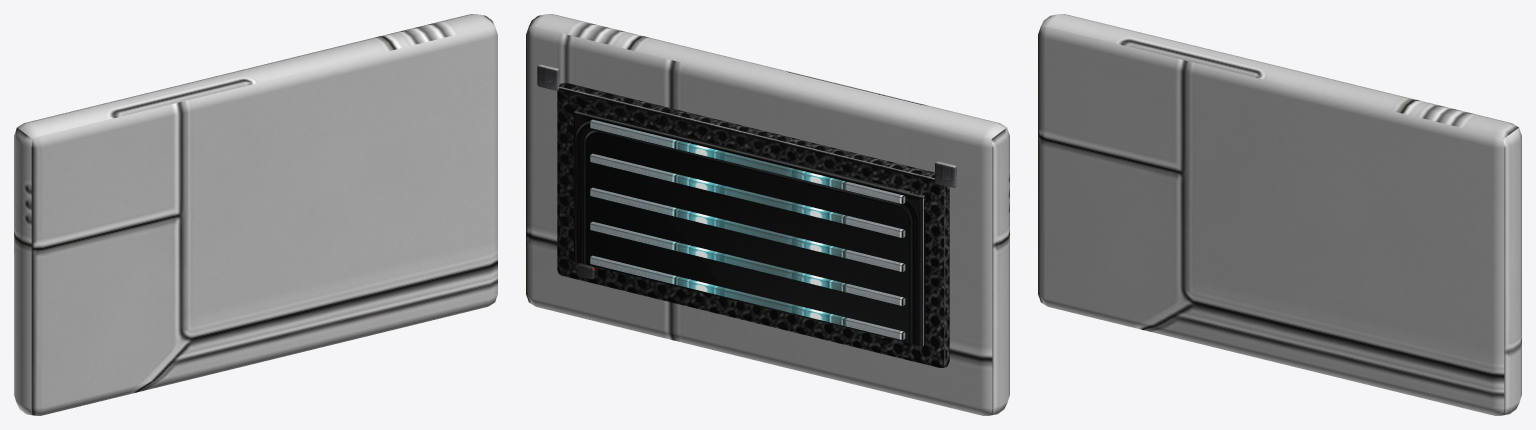
File: hp_l4_cineclinic_rescue_speaker_panel.glb
3 renders of one model, left to right at view 1: azimuth 30°, elevation 25°; view 2: azimuth 150°, elevation 25°; view 3: azimuth 330°, elevation 25°, orthographic.
Visible parts, largest first — view 1: white_wall_frame; view 2: white_wall_frame, inner_black_shadow_frame, dark_acoustic_mesh, cyan_sound_slit_2, cyan_sound_slit_0, cyan_sound_slit_1, cyan_sound_slit_3, cyan_sound_slit_4, right_screw_cap, left_screw_cap; view 3: white_wall_frame.
Boxes of the visible parts, x1,y1,x2,y2 form: white_wall_frame: [14, 14, 497, 415]; white_wall_frame: [526, 14, 1009, 415]; inner_black_shadow_frame: [573, 110, 925, 346]; dark_acoustic_mesh: [557, 83, 949, 367]; cyan_sound_slit_2: [590, 187, 905, 271]; cyan_sound_slit_0: [590, 255, 905, 339]; cyan_sound_slit_1: [590, 221, 905, 305]; cyan_sound_slit_3: [590, 153, 905, 237]; cyan_sound_slit_4: [590, 119, 905, 203]; right_screw_cap: [537, 64, 559, 90]; left_screw_cap: [935, 161, 956, 187]; white_wall_frame: [1038, 14, 1521, 415].
Size of the model in its own units: 1.24 by 0.72 by 0.153.
Materials: 6 (6 with a texture image).
